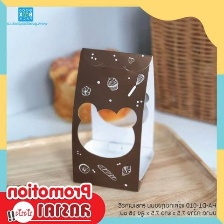snack: (65, 41, 162, 196)
